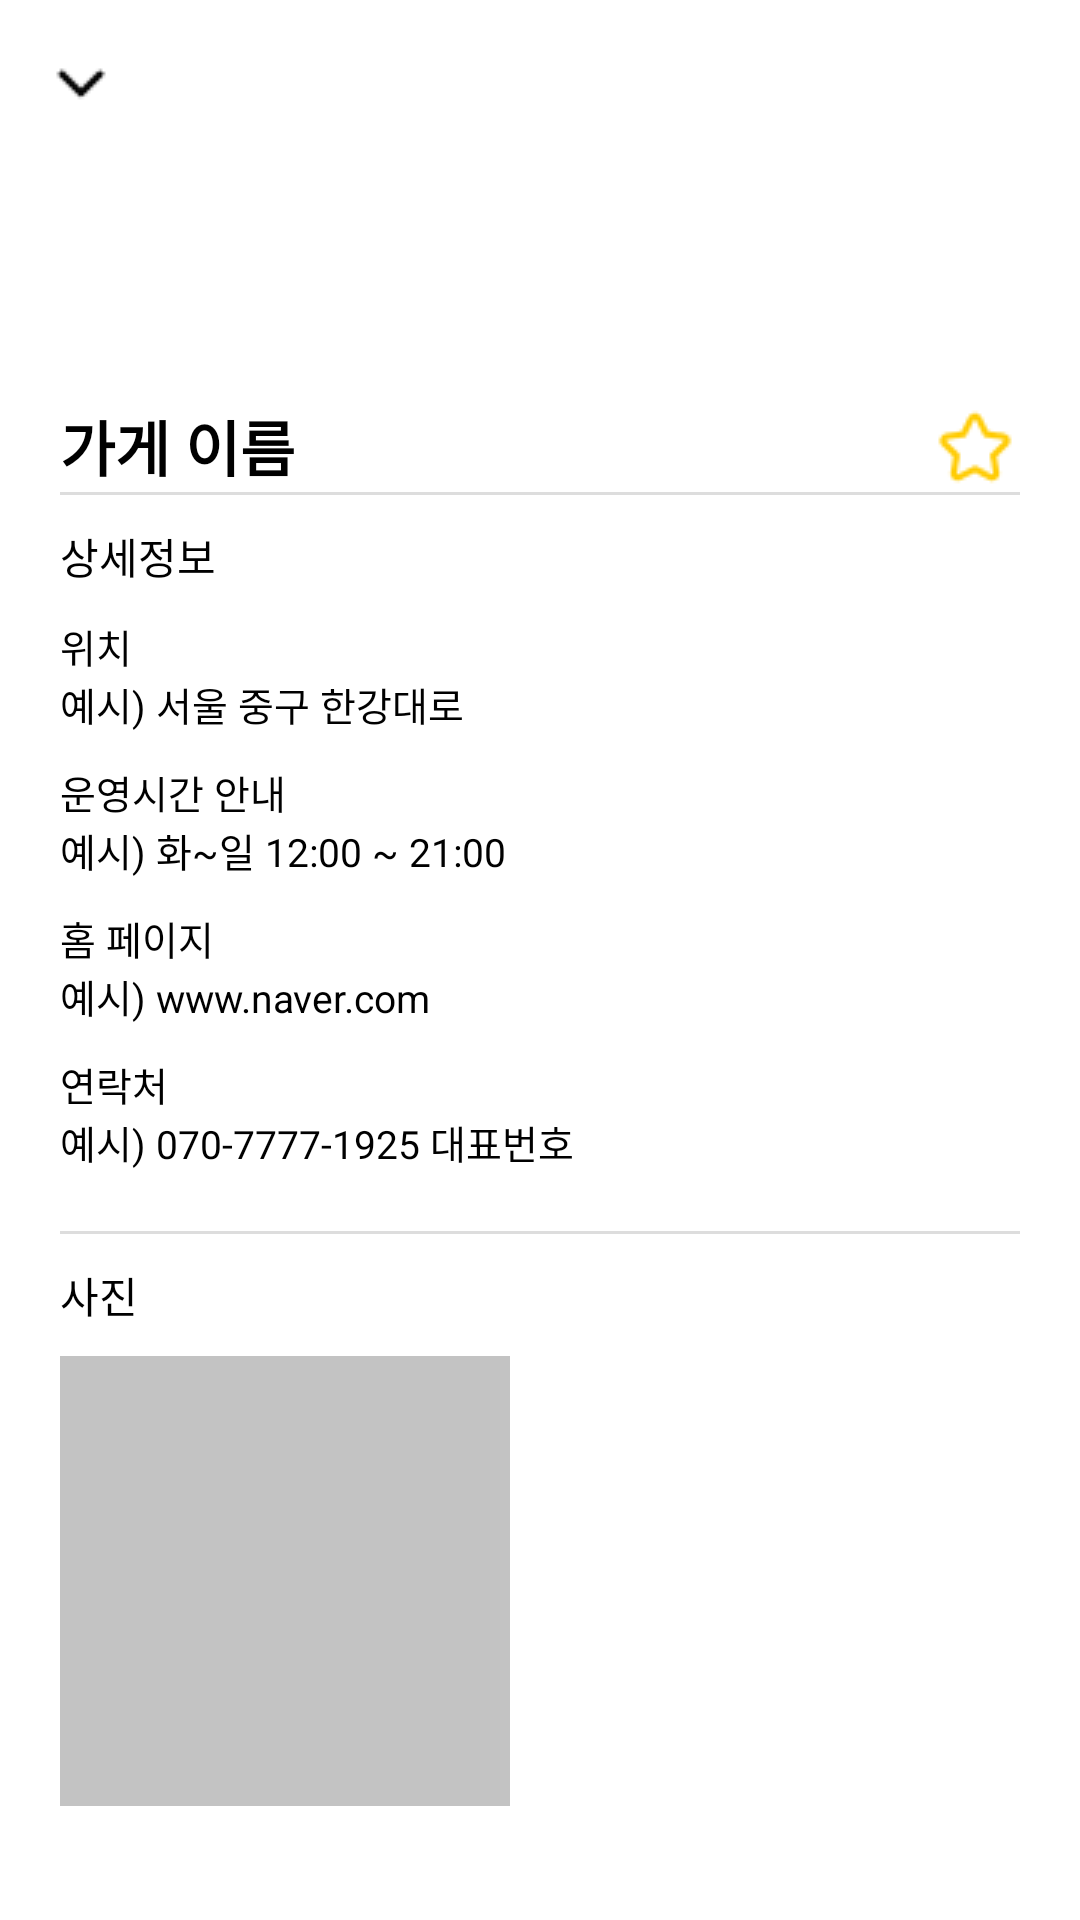

Screen size 1080px×1920px. Icon name, then its box in pixels as (x1, y1, x2, y2):
down: (56, 68, 106, 98)
star empty: (938, 411, 1012, 483)
